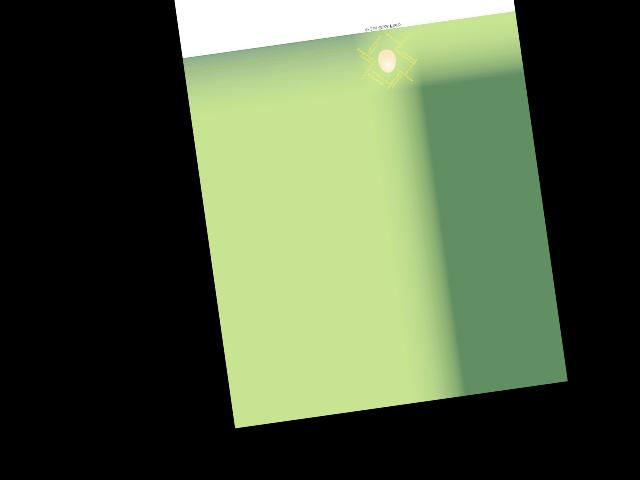egg: (377, 48, 397, 74)
